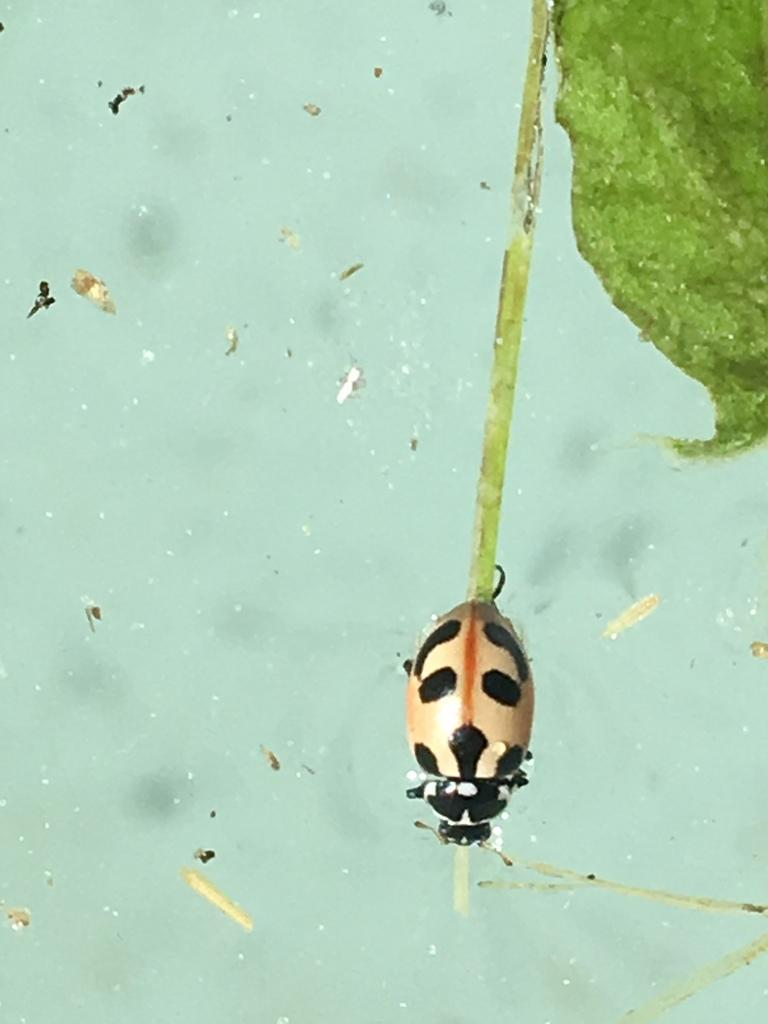ladybug: (399, 596, 544, 876)
